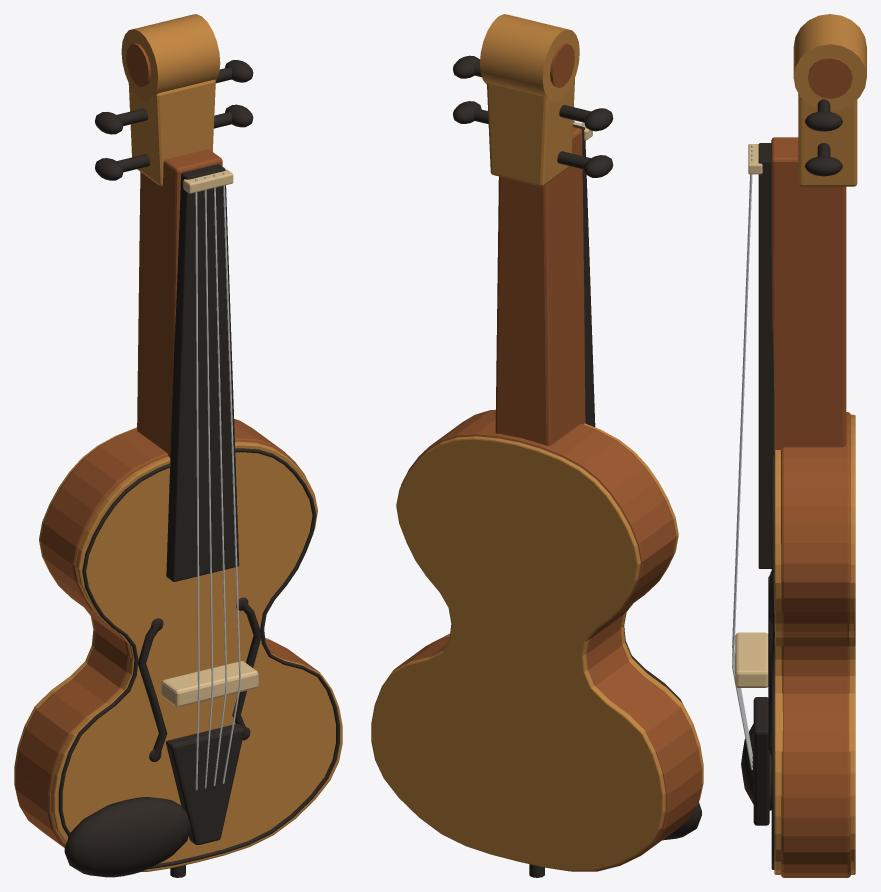
File: violin.glb
3 views of the same model, side by side, from view 1: azimuth 30°, elevation 25°; view 2: azimuth 150°, elevation 25°; view 3: azimuth 270°, elevation 25° (orthographic).
Visible parts, largest first — view 1: Golden spruce top plate, Black fingerboard, Hollow-body outer shell, Maple neck, Chin rest, Ebony tailpiece, Pegbox, Carved scroll, Front purfling border, Maple bridge, Playable string, Playable string.003 (+7 smaller); view 2: Wooden back plate, Maple neck, Hollow-body outer shell, Pegbox, Carved scroll, Black fingerboard, Golden spruce top plate, Scroll inset; view 3: Hollow-body outer shell, Maple neck, Black fingerboard, Carved scroll, Pegbox, Golden spruce top plate, Wooden back plate, Ebony tailpiece, Maple bridge, Front purfling border, Playable string.003, Scroll inset.001 (+8 smaller).
Part boxes in pixels (x1=…): Golden spruce top plate: x1=51, y1=441, x2=342, y2=871; Black fingerboard: x1=166, y1=164, x2=239, y2=581; Hollow-body outer shell: x1=15, y1=419, x2=320, y2=847; Maple neck: x1=137, y1=149, x2=222, y2=457; Chin rest: x1=64, y1=797, x2=190, y2=877; Ebony tailpiece: x1=166, y1=724, x2=244, y2=844; Pegbox: x1=128, y1=79, x2=215, y2=186; Carved scroll: x1=121, y1=14, x2=220, y2=100; Front purfling border: x1=58, y1=448, x2=339, y2=868; Maple bridge: x1=161, y1=661, x2=258, y2=707; Playable string: x1=195, y1=178, x2=199, y2=790; Playable string.003: x1=222, y1=172, x2=241, y2=783; Wooden back plate: x1=371, y1=436, x2=665, y2=871; Maple neck: x1=495, y1=127, x2=585, y2=445; Hollow-body outer shell: x1=392, y1=409, x2=701, y2=871; Pegbox: x1=487, y1=78, x2=574, y2=186; Carved scroll: x1=480, y1=14, x2=579, y2=101; Black fingerboard: x1=573, y1=124, x2=595, y2=426; Golden spruce top plate: x1=432, y1=423, x2=703, y2=801; Scroll inset: x1=550, y1=43, x2=574, y2=87; Hollow-body outer shell: x1=781, y1=412, x2=850, y2=877; Maple neck: x1=771, y1=137, x2=846, y2=450; Black fingerboard: x1=758, y1=143, x2=774, y2=568; Carved scroll: x1=793, y1=14, x2=866, y2=110; Pegbox: x1=798, y1=93, x2=857, y2=186; Golden spruce top plate: x1=774, y1=450, x2=782, y2=874; Wooden back plate: x1=849, y1=414, x2=855, y2=874; Ebony tailpiece: x1=753, y1=697, x2=769, y2=825; Maple bridge: x1=735, y1=632, x2=768, y2=687; Front purfling border: x1=771, y1=455, x2=774, y2=869; Playable string.003: x1=732, y1=158, x2=752, y2=769; Scroll inset.001: x1=808, y1=57, x2=852, y2=98.
Bounding box in the file's own units: 0.212 × 0.585 × 0.0846.
